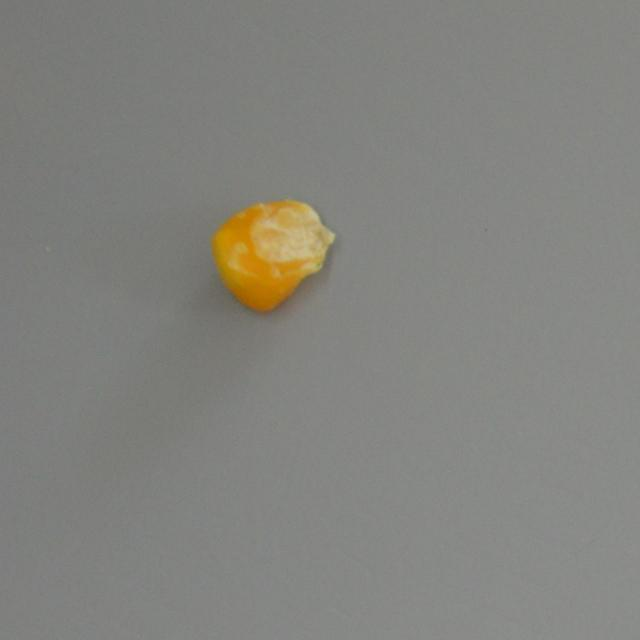no_desgerminado: (206, 198, 341, 315)
